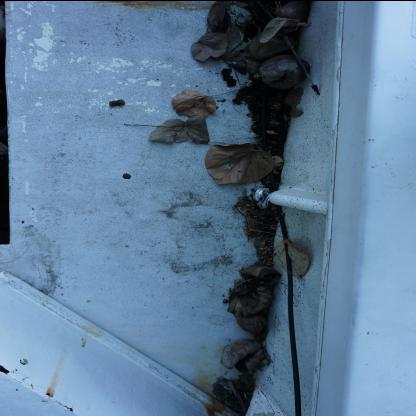metal: (253, 186, 271, 208)
